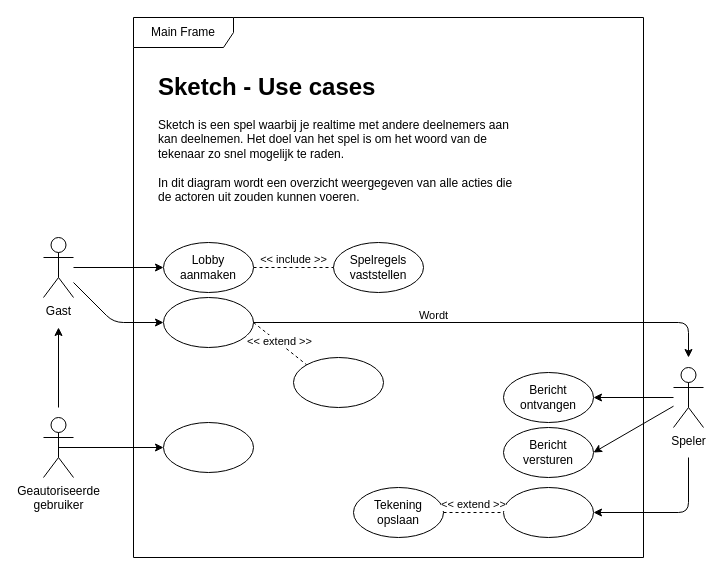
This 723x575 diagram has some shape labels left out. Here are the shapes that lost their labels. From the top down, the centre of each, then its label:
(x=208, y=322): Deelnemen aan lobby
(x=338, y=382): Lobby verlaten
(x=208, y=447): Galerij bekijken
(x=548, y=512): Speel ronde
